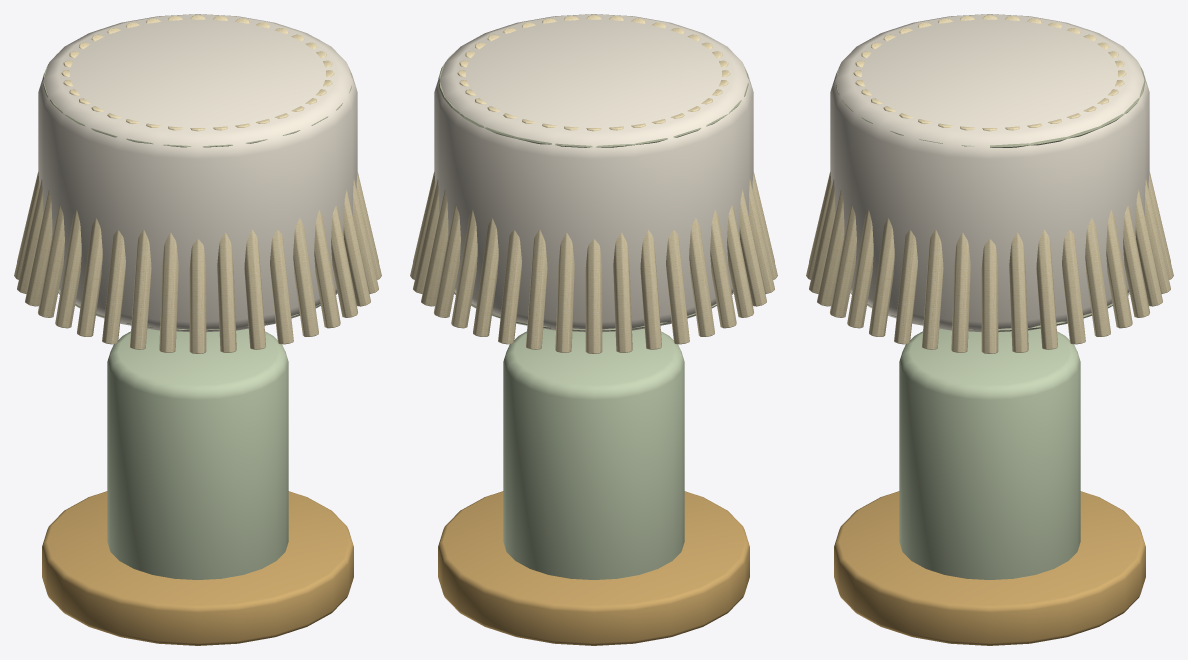
The model's file is pleated-table-lamp.glb.
3 views of the same model, side by side, from view 1: azimuth 30°, elevation 25°; view 2: azimuth 150°, elevation 25°; view 3: azimuth 270°, elevation 25° (orthographic).
Parts seen in each view (by area): view 1: pleated-table-lamp; view 2: pleated-table-lamp; view 3: pleated-table-lamp.
Boxes of the visible parts, x1,y1,x2,y2 form: pleated-table-lamp: [14, 14, 381, 645]; pleated-table-lamp: [410, 14, 777, 645]; pleated-table-lamp: [806, 14, 1173, 645].
Bounding box in the file's own units: 0.34 × 0.52 × 0.34.
5 materials, 1 textured.
